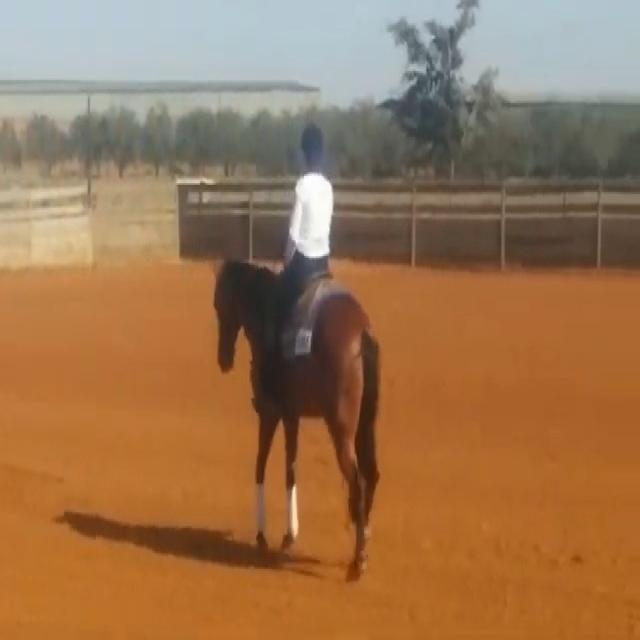horse: (210, 253, 383, 582)
